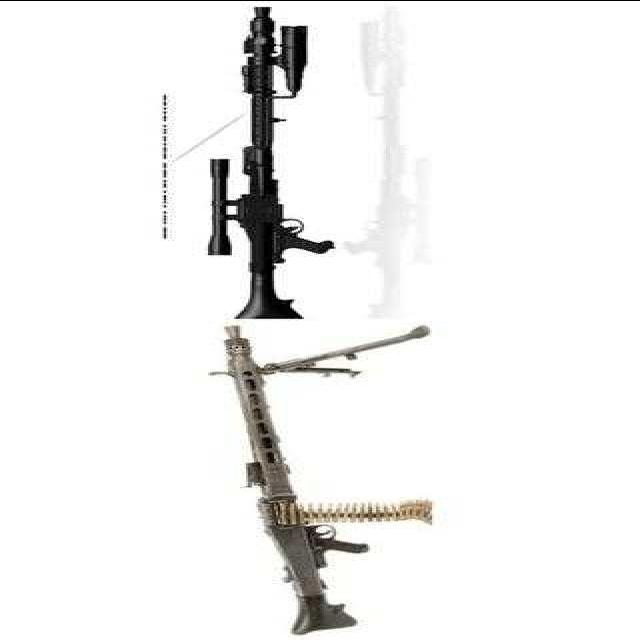heavyweapon: (181, 320, 455, 635), (167, 5, 385, 325)
